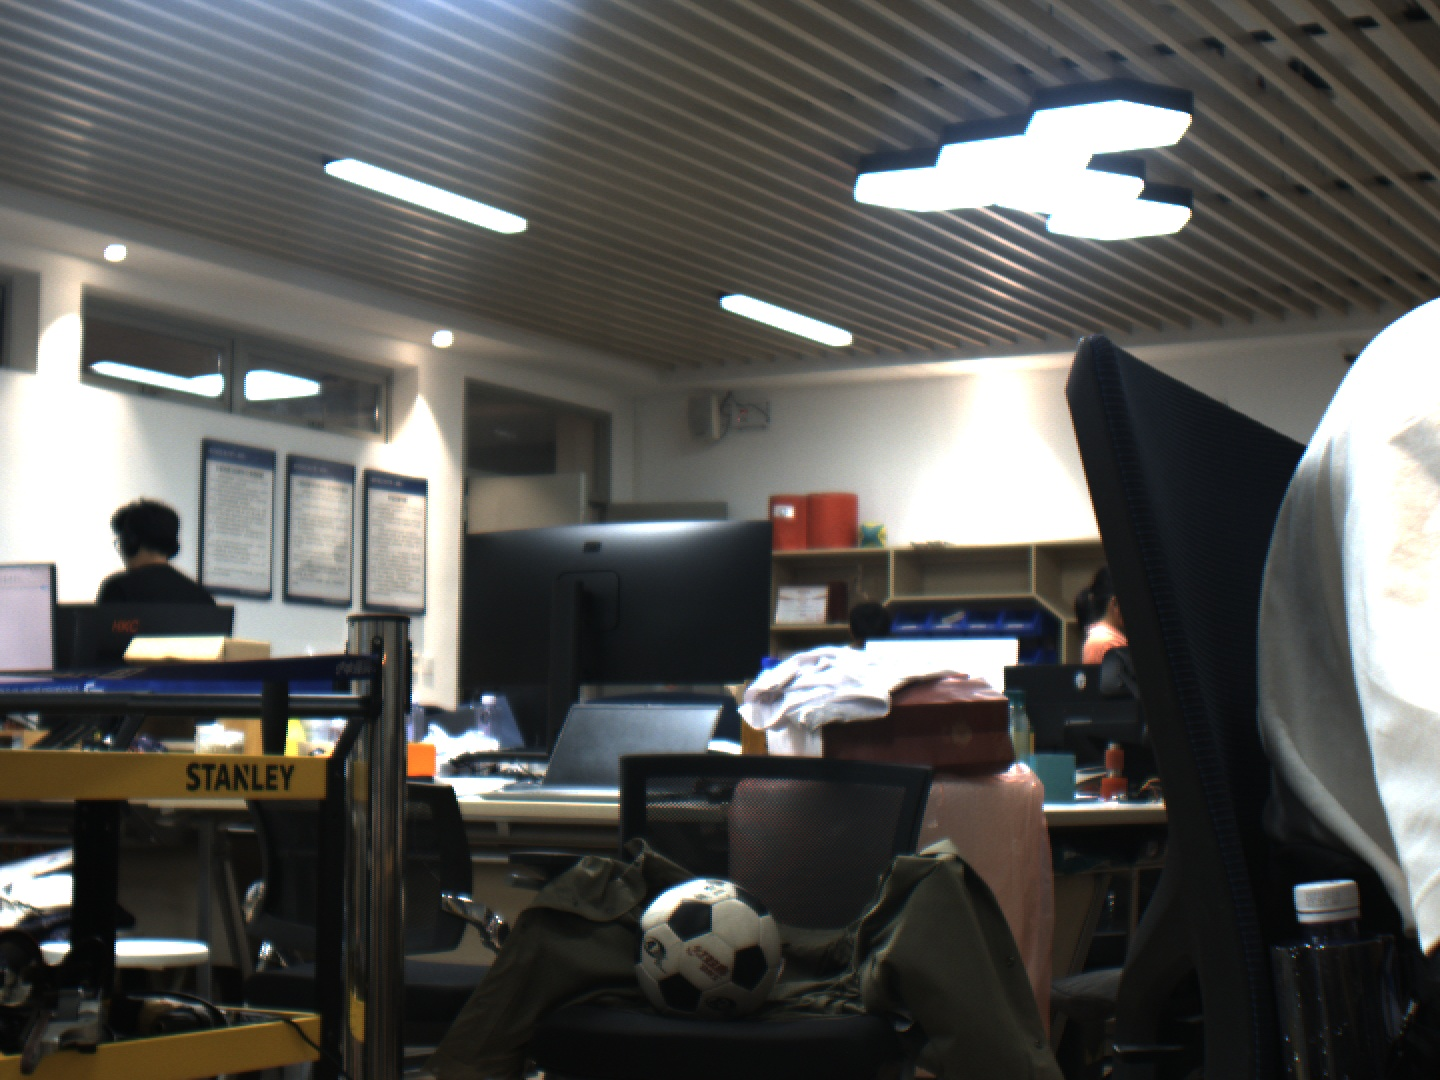ball: (638, 876, 779, 1026)
